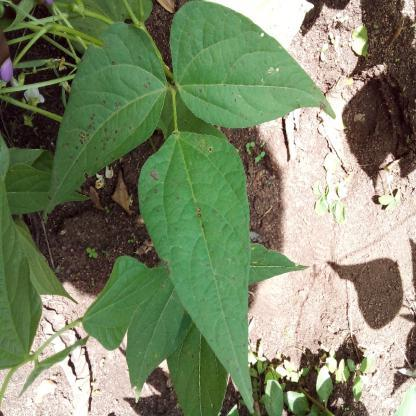Beans_Angular_LeafSpot: (140, 130, 254, 405), (44, 25, 169, 222), (170, 0, 335, 123)
